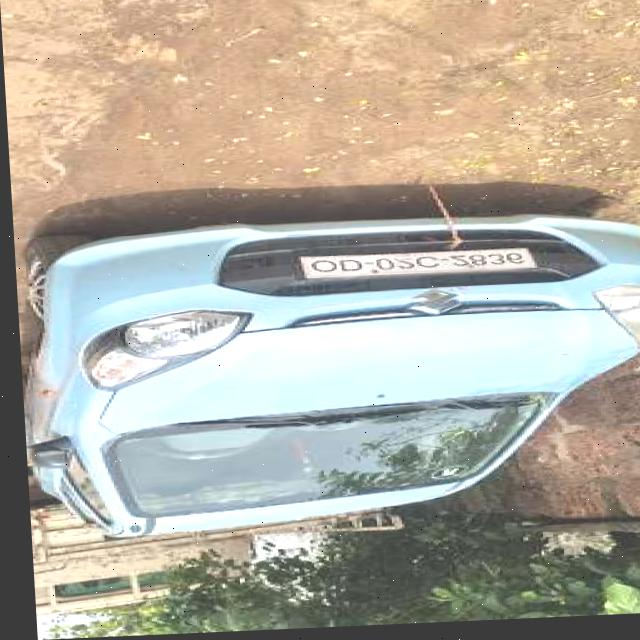plate: (291, 250, 533, 284)
